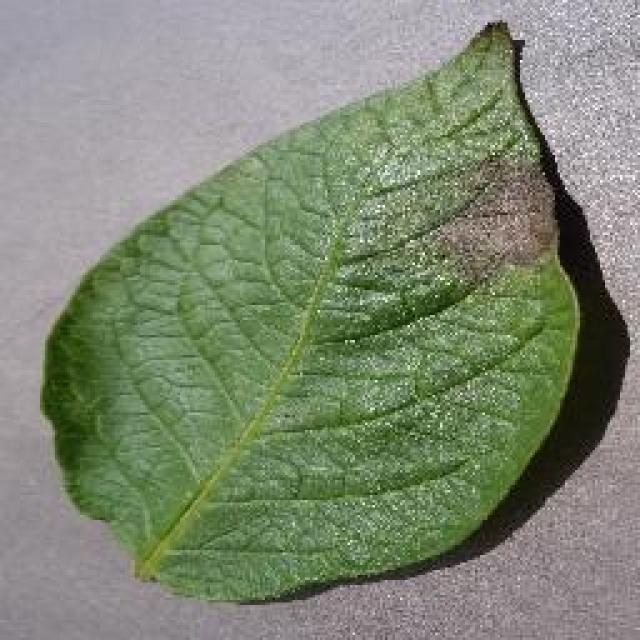Late_blight: (417, 137, 575, 288)
